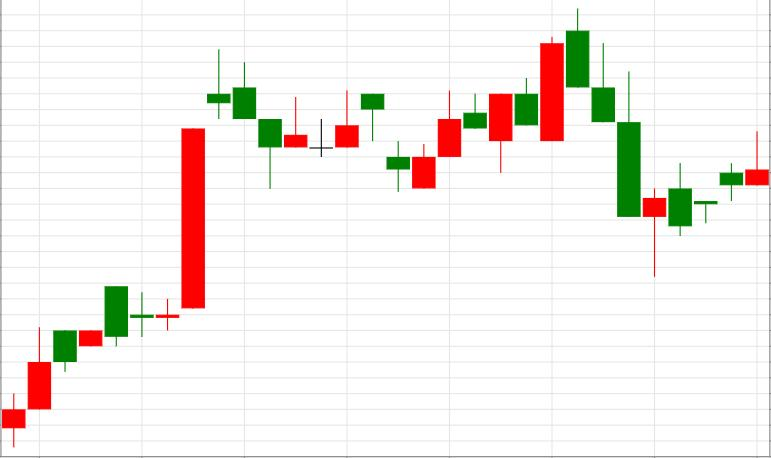three_black_crows_fall: (412, 8, 640, 216)
